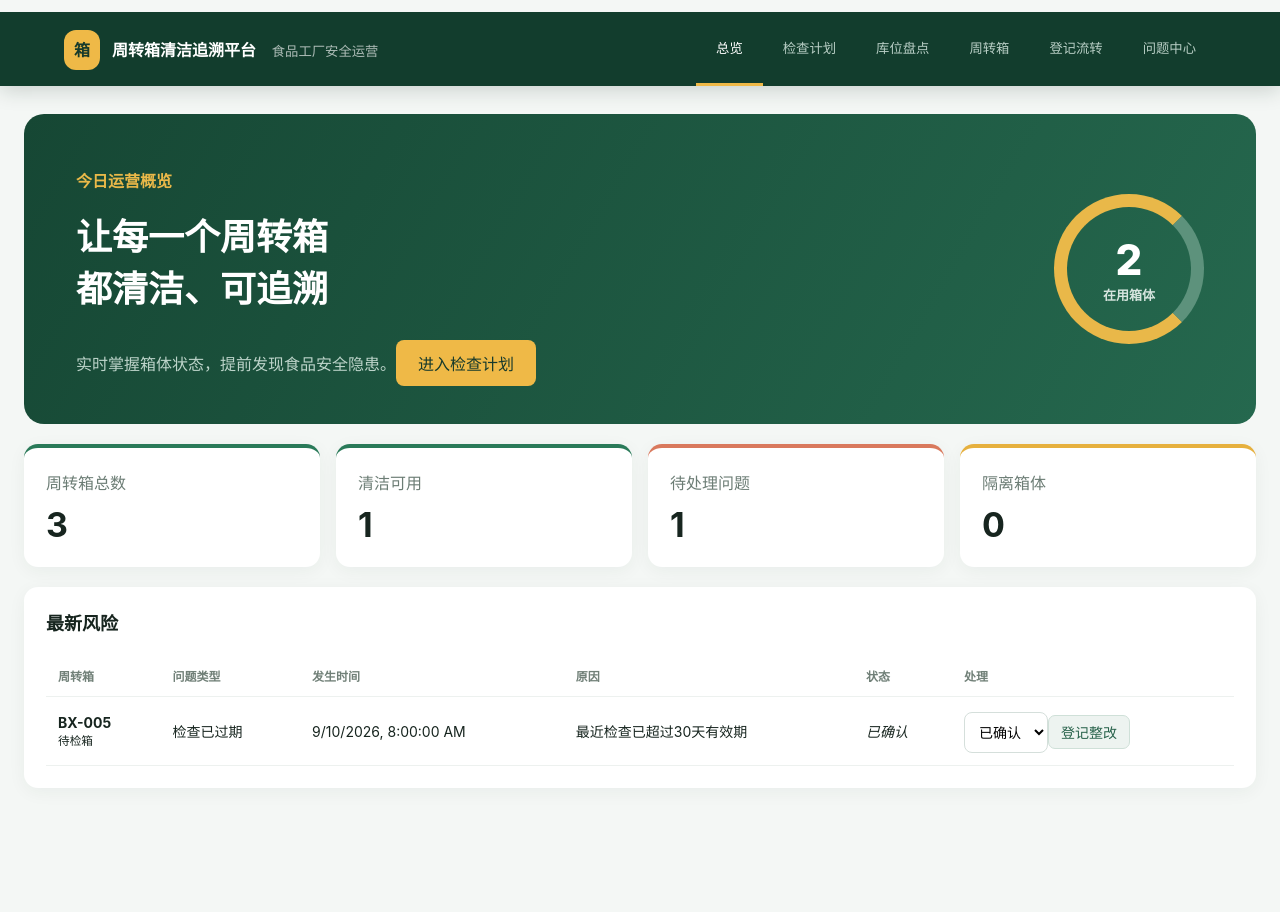
Test case: expired inspection issue prefills inspect and closes
Expected: the text "周转箱总数" is shown, [46,473,126,493]
Click the button "问题中心". click: {"x": 1169, "y": 49}
box: [1123,12,1216,86]
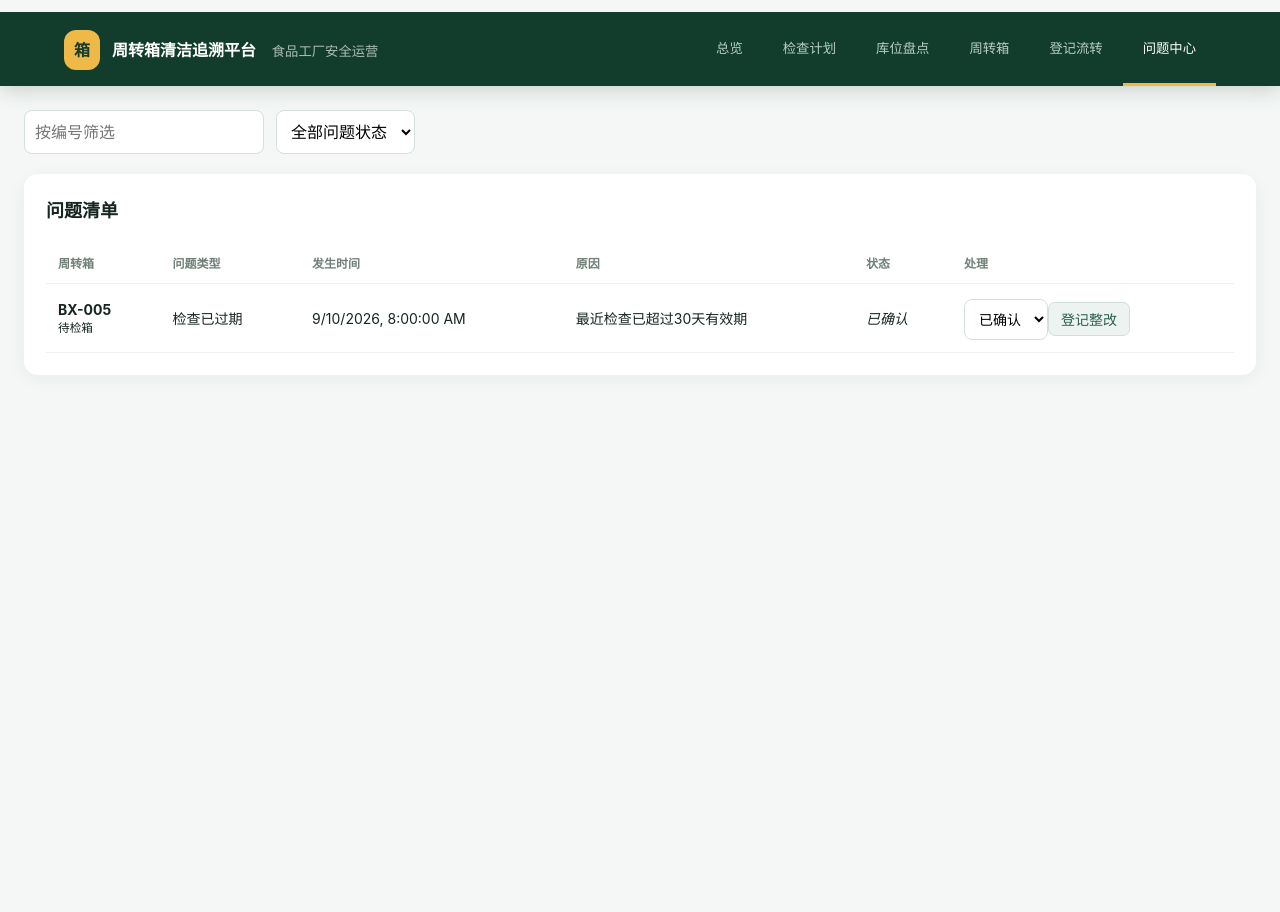
Expected: the text "BX-005" is shown, [58,301,111,318]
Click the button "登记整改". click: {"x": 1089, "y": 319}
box: [1048,302,1130,336]
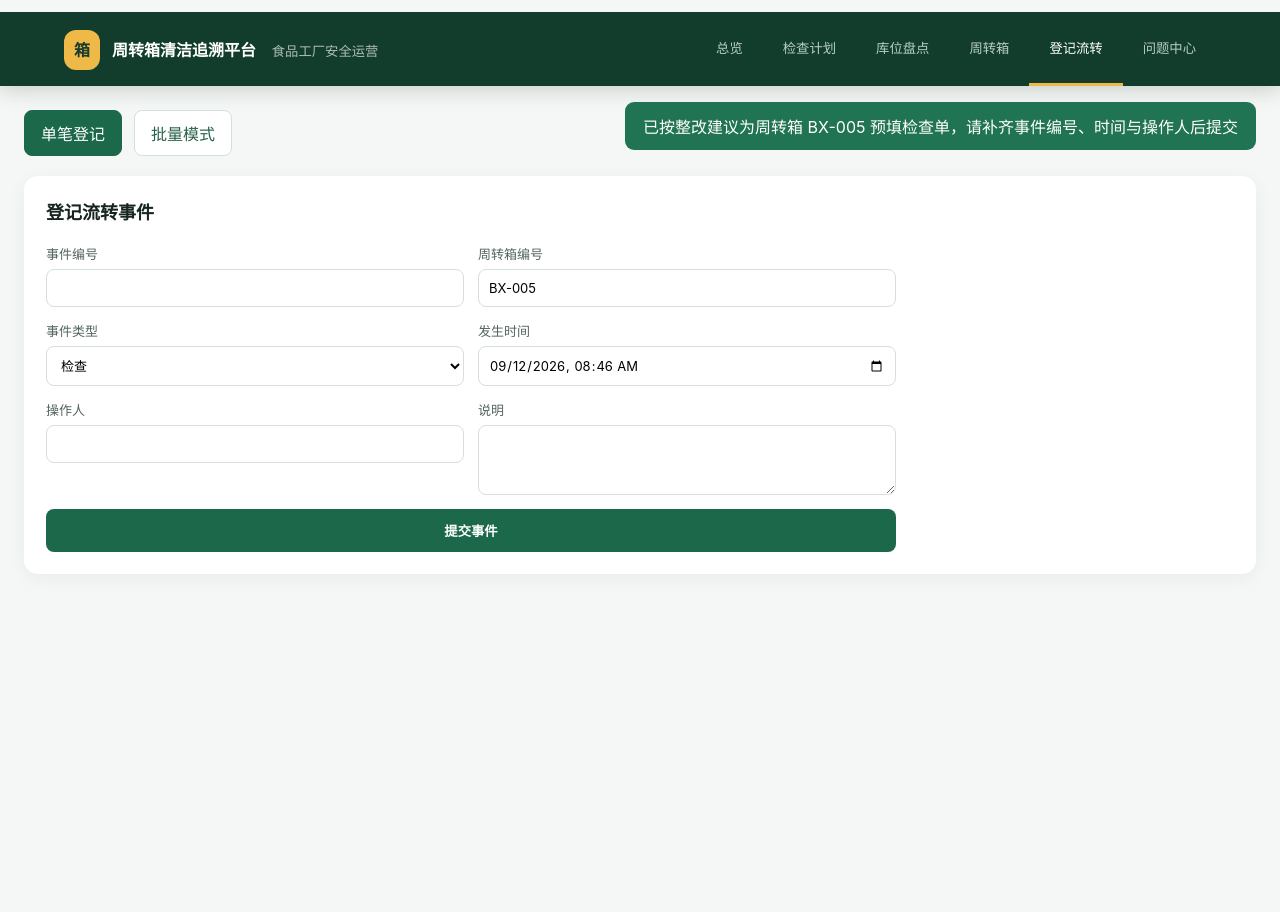
Now the text "已按整改建议为周转箱 BX-005 预填检查单，请补齐事件编号、时间与操作人后提交" is shown, box [625,102,1256,150]
Now the dropdown labelled "事件类型" shows "检查", box [46,346,464,386]
Type "EV-I-1" into the field labelled "事件编号". click: {"x": 255, "y": 288}
box: [46,269,464,307]
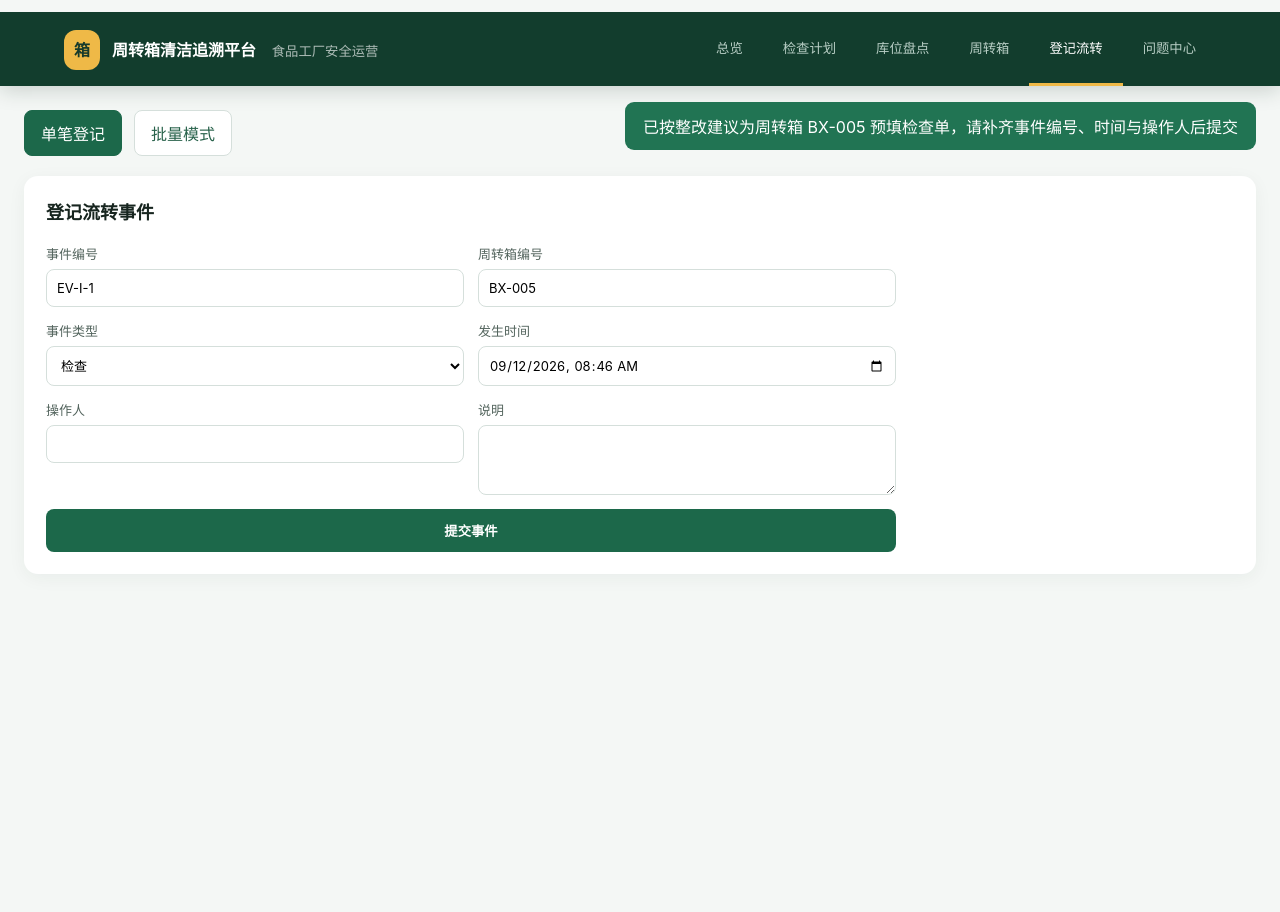
Type "李工" into the field labelled "操作人". click: {"x": 255, "y": 444}
box: [46,425,464,463]
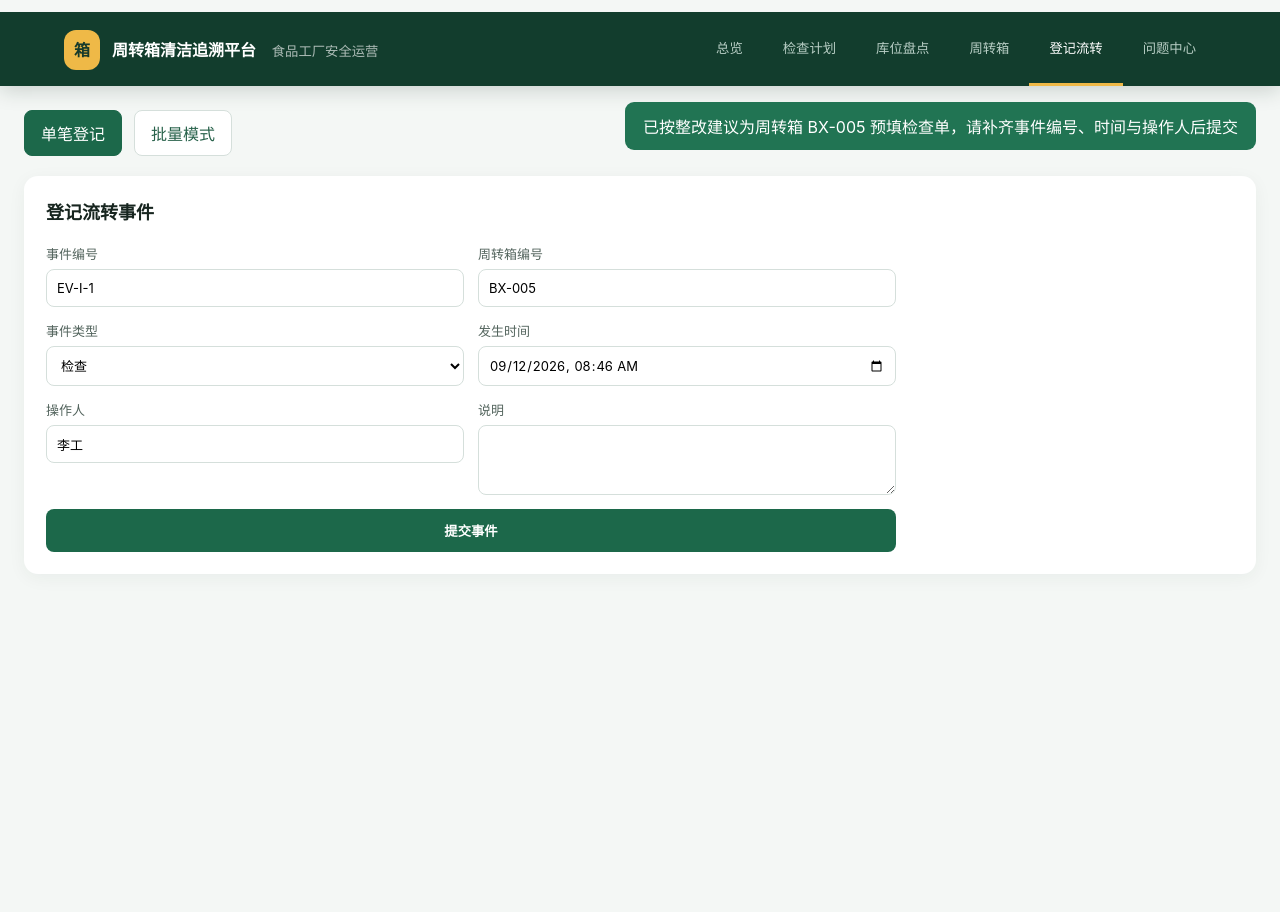
Click the button "提交事件". click: {"x": 471, "y": 530}
box: [46,509,896,552]
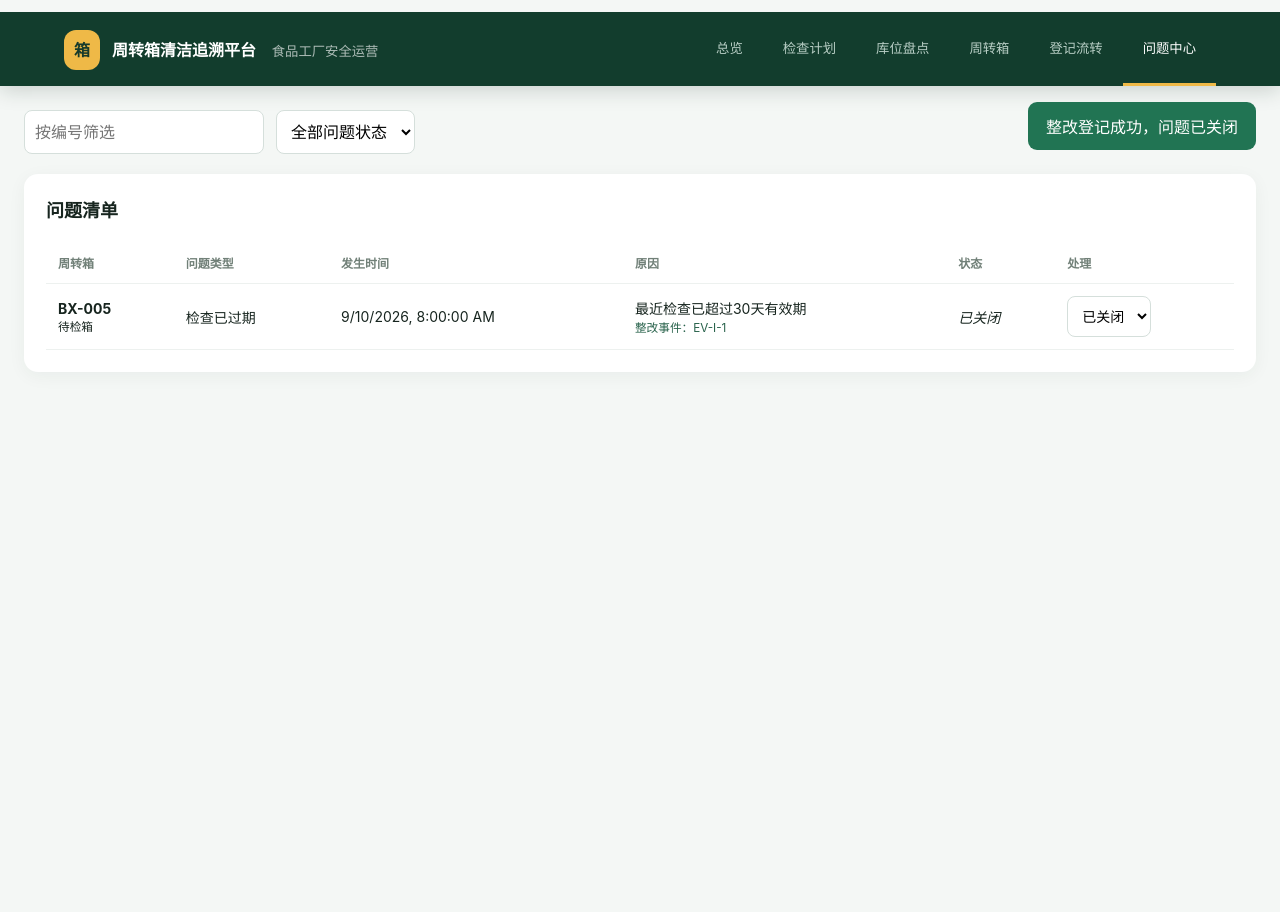
Now the text "整改登记成功，问题已关闭" is shown, box [1028,102,1256,150]
Now the text "整改事件：EV-I-1" is shown, box [635,321,726,335]
